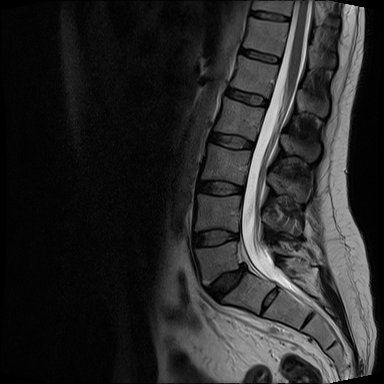Lumbar Disc Bulge (LDB): (200, 260, 253, 306)
Normal IVD: (188, 226, 242, 251), (192, 177, 246, 198), (226, 85, 271, 110), (210, 131, 256, 153), (236, 47, 283, 68), (248, 8, 292, 25)
Spinal Stenosis (SS): (233, 253, 254, 279)
